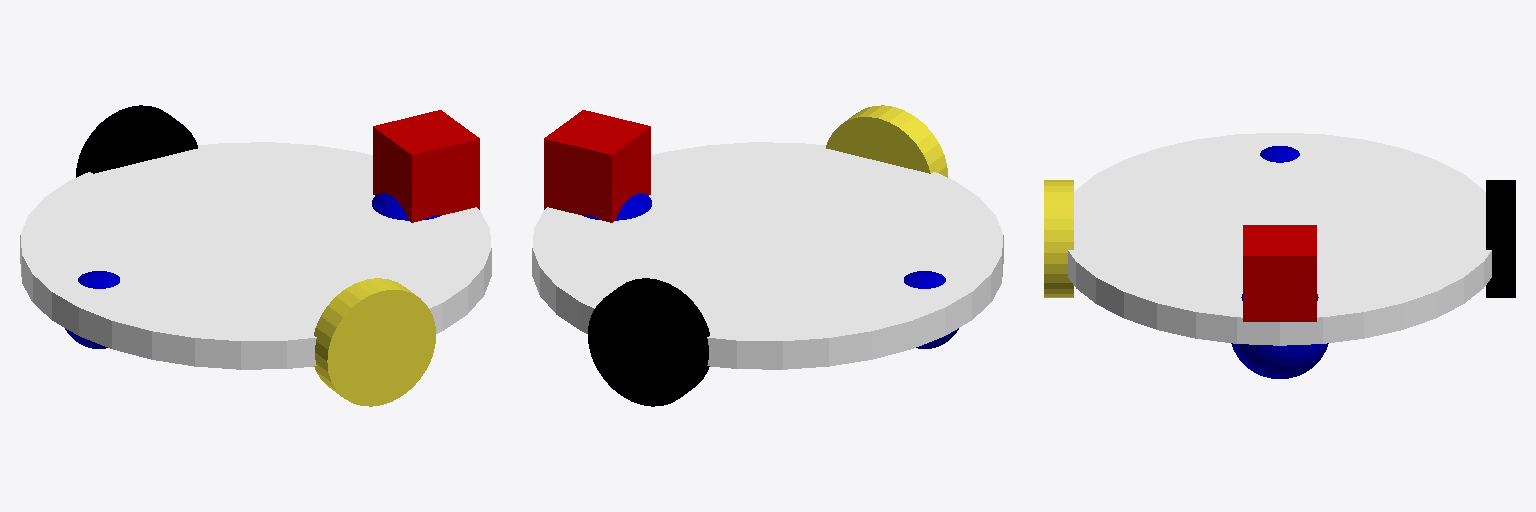
robot.urdf — simple_robot:
<?xml version="1.0"?>
<robot name="simple_robot" xmlns:xacro="http://www.ros.org/wiki/xacro">
  <material name="Red">
    <color rgba="0.0 0.0 0.0 1.0"/>
  </material>
  <material name="Blue">
    <color rgba="0.8 0.0 0.0 1.0"/>
  </material>
  <material name="White">
    <color rgba="1.0 1.0 1.0 1.0"/>
  </material>
  <material name="Black">
    <color rgba="0.0 0.0 0.8 1.0"/>
  </material>
  <link name="base_footprint">
    <inertial>
      <mass value="0.0001"/>
      <origin xyz="0 0 0"/>
      <inertia ixx="0.0001" ixy="0.0" ixz="0.0" iyy="0.0001" iyz="0.0" izz="0.0001"/>
    </inertial>
    <visual>
      <origin rpy="0 0 0" xyz="0 0 0"/>
      <geometry>
        <box size="0.001 0.001 0.001"/>
      </geometry>
    </visual>
  </link>
  <gazebo reference="base_footprint">
    <turnGravityOff>false</turnGravityOff>
  </gazebo>
  <joint name="base_footprint_joint" type="fixed">
    <origin rpy="0 0 0" xyz="0 0 0.04"/>
    <parent link="base_footprint"/>
    <child link="base_link"/>
  </joint>

  <link name="base_link">
    <inertial>
      <mass value="5"/>
      <origin xyz="0 0 0"/>
      <!--The 3x3 rotational inertia matrix. -->
      <inertia ixx="0.0282916666667" ixy="0" ixz="0" iyy="0.0282916666667" iyz="0" izz="0.05625"/>
    </inertial>
    <visual>
      <origin rpy="0 0 0" xyz="0 0 0"/>
      <geometry>
        <cylinder length="0.02" radius="0.15"/>
      </geometry>
      <material name="White"/>
    </visual>
    <collision>
      <origin rpy="0 0 0 " xyz="0 0 0"/>
      <geometry>
        <cylinder length="0.02" radius="0.15"/>
      </geometry>
    </collision>
  </link>
  <gazebo reference="base_link">
    <material>Gazebo/White</material>
    <turnGravityOff>false</turnGravityOff>
  </gazebo>
  <!--fb : front, back ; lr: left, right -->
  <link name="front_right_wheel">
    <visual>
      <origin rpy="1.57079632679 0  0 " xyz="0 0 0"/>
      <geometry>
        <cylinder length="0.02" radius="0.04"/>
      </geometry>
      <material name="Red"/>
    </visual>
    <collision>
      <origin rpy="1.57079632679 0 0 " xyz="0 0 0"/>
      <geometry>
        <cylinder length="0.02" radius="0.04"/>
      </geometry>
    </collision>
    <inertial>
      <mass value="2.5"/>
      <origin xyz="0 0 0"/>
      <inertia ixx="0.00108333333333" ixy="0" ixz="0" iyy="0.00108333333333" iyz="0" izz="0.002"/>
    </inertial>
  </link>
  <gazebo reference="front_right_wheel">
    <mu1 value="1.0"/>
    <mu2 value="1.0"/>
    <kp value="10000000.0"/>
    <kd value="1.0"/>
    <fdir1 value="1 0 0"/>
    <material>Gazebo/Black</material>
    <turnGravityOff>false</turnGravityOff>
  </gazebo>
  <joint name="front_right_wheel_joint" type="continuous">
    <parent link="base_link"/>
    <child link="front_right_wheel"/>
    <origin rpy="0 0 0" xyz="0.0 0.15 0.0"/>
    <axis rpy="0  0" xyz="0 1 0"/>
    <limit effort="100" velocity="100"/>
    <joint_properties damping="0.0" friction="0.0"/>
  </joint>
  <!-- Transmission is important to link the joints and the controller -->
  <transmission name="front_right_wheel_joint_trans">
    <type>transmission_interface/SimpleTransmission</type>
    <joint name="front_right_wheel_joint"/>
    <actuator name="front_right_wheel_joint_motor">
      <hardwareInterface>EffortJointInterface</hardwareInterface>
      <mechanicalReduction>1</mechanicalReduction>
    </actuator>
  </transmission>
  <!--fb : front, back ; lr: left, right -->
  <link name="front_left_wheel">
    <visual>
      <origin rpy="1.57079632679 0  0 " xyz="0 0 0"/>
      <geometry>
        <cylinder length="0.02" radius="0.04"/>
      </geometry>
      <material name="DarkGray"/>
    </visual>
    <collision>
      <origin rpy="1.57079632679 0 0 " xyz="0 0 0"/>
      <geometry>
        <cylinder length="0.02" radius="0.04"/>
      </geometry>
    </collision>
    <inertial>
      <mass value="2.5"/>
      <origin xyz="0 0 0"/>
      <inertia ixx="0.00108333333333" ixy="0" ixz="0" iyy="0.00108333333333" iyz="0" izz="0.002"/>
    </inertial>
  </link>
  <gazebo reference="front_left_wheel">
    <mu1 value="1.0"/>
    <mu2 value="1.0"/>
    <kp value="10000000.0"/>
    <kd value="1.0"/>
    <fdir1 value="1 0 0"/>
    <material>Gazebo/Black</material>
    <turnGravityOff>false</turnGravityOff>
  </gazebo>
  <joint name="front_left_wheel_joint" type="continuous">
    <parent link="base_link"/>
    <child link="front_left_wheel"/>
    <origin rpy="0 0 0" xyz="0.0 -0.15 0.0"/>
    <axis rpy="0  0" xyz="0 1 0"/>
    <limit effort="100" velocity="100"/>
    <joint_properties damping="0.0" friction="0.0"/>
  </joint>
  <!-- Transmission is important to link the joints and the controller -->
  <transmission name="front_left_wheel_joint_trans">
    <type>transmission_interface/SimpleTransmission</type>
    <joint name="front_left_wheel_joint"/>
    <actuator name="front_left_wheel_joint_motor">
      <hardwareInterface>EffortJointInterface</hardwareInterface>
      <mechanicalReduction>1</mechanicalReduction>
    </actuator>
  </transmission>
  <!--Caster front  -->
  <link name="caster_front_link">
    <visual>
      <origin rpy="1.57079632679 0 0" xyz="0 0.02 0"/>
      <geometry>
        <sphere radius="0.035"/>
      </geometry>
      <material name="Black"/>
    </visual>
    <collision>
      <geometry>
        <sphere radius="0.035"/>
      </geometry>
      <origin rpy="1.57079632679 0 0" xyz="0 0.02 0"/>
    </collision>
    <inertial>
      <mass value="0.5"/>
      <origin xyz="0 0 0"/>
      <inertia ixx="0.001" ixy="0.0" ixz="0.0" iyy="0.001" iyz="0.0" izz="0.001"/>
    </inertial>
  </link>
  <joint name="caster_front_joint" type="fixed">
    <parent link="base_link"/>
    <child link="caster_front_link"/>
    <origin rpy="-1.57079632679 0 0" xyz="0.115 0.0 0.007"/>
  </joint>
  <gazebo reference="caster_front_link">
    <turnGravityOff>false</turnGravityOff>
  </gazebo>
  <!--Caster back  -->
  <link name="caster_back_link">
    <visual>
      <origin rpy="1.57079632679 0 0" xyz="0 0.02 0 "/>
      <geometry>
        <sphere radius="0.025"/>
      </geometry>
      <material name="Black"/>
    </visual>
    <collision>
      <geometry>
        <sphere radius="0.025"/>
      </geometry>
      <origin rpy="1.57079632679 0 0" xyz="0 0.02 0 "/>
    </collision>
    <inertial>
      <mass value="0.5"/>
      <origin xyz="0 0 0"/>
      <inertia ixx="0.001" ixy="0.0" ixz="0.0" iyy="0.001" iyz="0.0" izz="0.001"/>
    </inertial>
  </link>
  <joint name="caster_back_joint" type="fixed">
    <parent link="base_link"/>
    <child link="caster_back_link"/>
    <origin rpy="-1.57079632679 0 0" xyz="-0.115 0.0 0.009"/>
  </joint>
  <gazebo reference="caster_back_link">
    <turnGravityOff>false</turnGravityOff>
  </gazebo>
  <!-- SENSORS -->
  <!-- hokuyo -->
  <link name="hokuyo_link">
    <visual>
      <origin rpy="0 0 0" xyz="0 0 0"/>
      <geometry>
        <box size="0.05 0.05 0.05"/>
      </geometry>
      <material name="Blue"/>
    </visual>
  </link>
  <joint name="hokuyo_joint" type="fixed">
    <origin rpy="0 0 0" xyz="0.125 0 0.0325"/>
    <parent link="base_link"/>
    <child link="hokuyo_link"/>
  </joint>
  <gazebo reference="hokuyo_link">
    <material>Gazebo/Red</material>
    <turnGravityOff>false</turnGravityOff>
    <sensor name="head_hokuyo_sensor" type="ray">
      <pose>0.025 0 0 0 0 0</pose>
      <visualize>false</visualize>
      <update_rate>40</update_rate>
      <ray>
        <scan>
          <horizontal>
            <samples>720</samples>
            <resolution>1</resolution>
            <min_angle>-1.570796</min_angle>
            <max_angle>1.570796</max_angle>
          </horizontal>
        </scan>
        <range>
          <min>0.10</min>
          <max>10.0</max>
          <resolution>0.001</resolution>
        </range>
      </ray>
      <plugin filename="libgazebo_ros_laser.so" name="gazebo_ros_head_hokuyo_controller">
        <topicName>/scan</topicName>
        <frameName>hokuyo_link</frameName>
      </plugin>
    </sensor>
  </gazebo>
  <!-- Differential drive controller  -->
  <gazebo>
    <plugin filename="libgazebo_ros_diff_drive.so" name="differential_drive_controller_front">
      <rosDebugLevel>Debug</rosDebugLevel>
      <publishWheelTF>True</publishWheelTF>
      <publishTf>1</publishTf>
      <publishWheelJointState>true</publishWheelJointState>
      <alwaysOn>true</alwaysOn>
      <updateRate>100.0</updateRate>
      <leftJoint>front_left_wheel_joint</leftJoint>
      <rightJoint>front_right_wheel_joint</rightJoint>
      <wheelSeparation>0.3</wheelSeparation>
      <wheelDiameter>0.08</wheelDiameter>
      <broadcastTF>1</broadcastTF>
      <wheelTorque>30</wheelTorque>
      <wheelAcceleration>1.8</wheelAcceleration>
      <commandTopic>cmd_vel</commandTopic>
      <odometryFrame>odom</odometryFrame>
      <odometryTopic>odom</odometryTopic>
      <robotBaseFrame>base_link</robotBaseFrame>
    </plugin>
  </gazebo>
  <!--
	  <gazebo>
	    <plugin name="kobuki_controller" filename="libgazebo_ros_kobuki.so">
	      <publish_tf>1</publish_tf>
	      <left_wheel_joint_name>front_left_wheel_joint</left_wheel_joint_name>
	      <right_wheel_joint_name>front_right_wheel_joint</right_wheel_joint_name>
	      <wheel_separation>.30</wheel_separation>
	      <wheel_diameter>0.08</wheel_diameter>
	      <torque>30.0</torque>
	      <velocity_command_timeout>0.6</velocity_command_timeout>


	    </plugin>
	  </gazebo>

-->
<!--
<gazebo>
    <plugin name="gazebo_ros_control" filename="libgazebo_ros_control.so" />
    <plugin filename="libgazebo_ros_joint_state_publisher.so" name="joint_state_publisher">
      <jointName>front_right_wheel_joint, front_left_wheel_joint</jointName>
      <updateRate>10.0</updateRate>
      <alwaysOn>true</alwaysOn>
    </plugin>
</gazebo>
-->
</robot>

--- What the picture shows (computed from the rendered views, not written in the file) ---
The picture shows the robot from 3 angles, left to right: view 1: azimuth 30°, elevation 25°; view 2: azimuth 150°, elevation 25°; view 3: azimuth 270°, elevation 25°; orthographic projection.
Robot: simple_robot — 7 links, 6 joints (2 continuous, 4 fixed); root link base_footprint; default pose: all joints at 0.
Links seen in each view (by area): view 1: base_link, front_left_wheel, hokuyo_link, front_right_wheel, caster_back_link, caster_front_link; view 2: base_link, front_right_wheel, hokuyo_link, front_left_wheel, caster_back_link, caster_front_link; view 3: base_link, hokuyo_link, front_right_wheel, front_left_wheel, caster_front_link.
Link boxes in pixels (x1,y1,x2,y2): base_link: (20, 142, 491, 369); front_left_wheel: (314, 278, 435, 406); hokuyo_link: (373, 110, 479, 222); front_right_wheel: (76, 105, 197, 177); caster_back_link: (65, 271, 119, 348); caster_front_link: (372, 193, 441, 220); base_link: (532, 142, 1003, 369); front_right_wheel: (588, 278, 709, 406); hokuyo_link: (544, 110, 650, 222); front_left_wheel: (826, 105, 947, 177); caster_back_link: (904, 271, 958, 348); caster_front_link: (582, 193, 651, 220); base_link: (1068, 133, 1491, 345); hokuyo_link: (1243, 225, 1316, 321); front_right_wheel: (1486, 180, 1515, 297); front_left_wheel: (1044, 180, 1073, 297); caster_front_link: (1231, 294, 1328, 378).
Bounding box of the posed robot: 0.3 × 0.32 × 0.1055 m (x, y, z).
Geometry: primitives only (box / cylinder / sphere), no mesh files.
